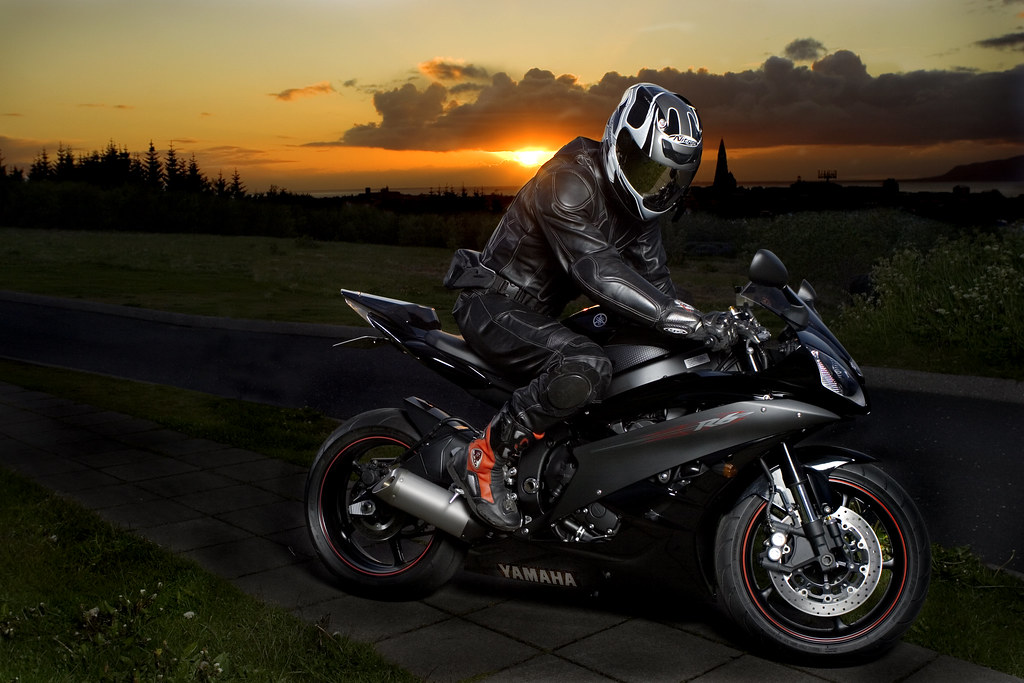helmet: (599, 69, 713, 220)
